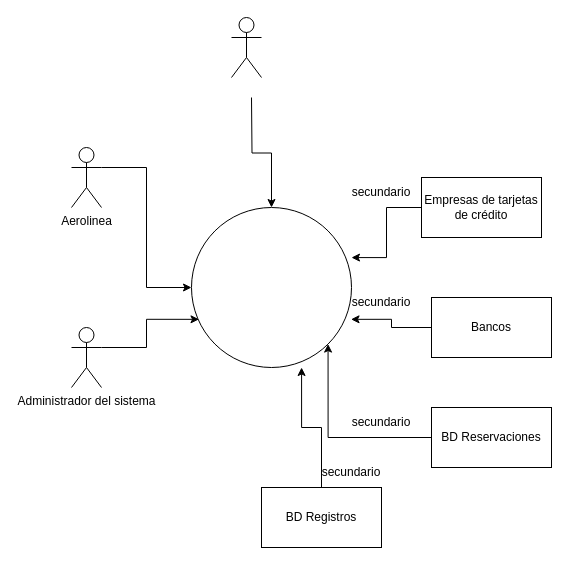
Image size: 569x565. Some labels were removed from this diagram. Each missing label, with the box of its shape:
SISTEMA DE RESERVA DE PASAJES AÉREOS: (190, 206, 352, 368)
Usuario: (230, 16, 262, 78)
